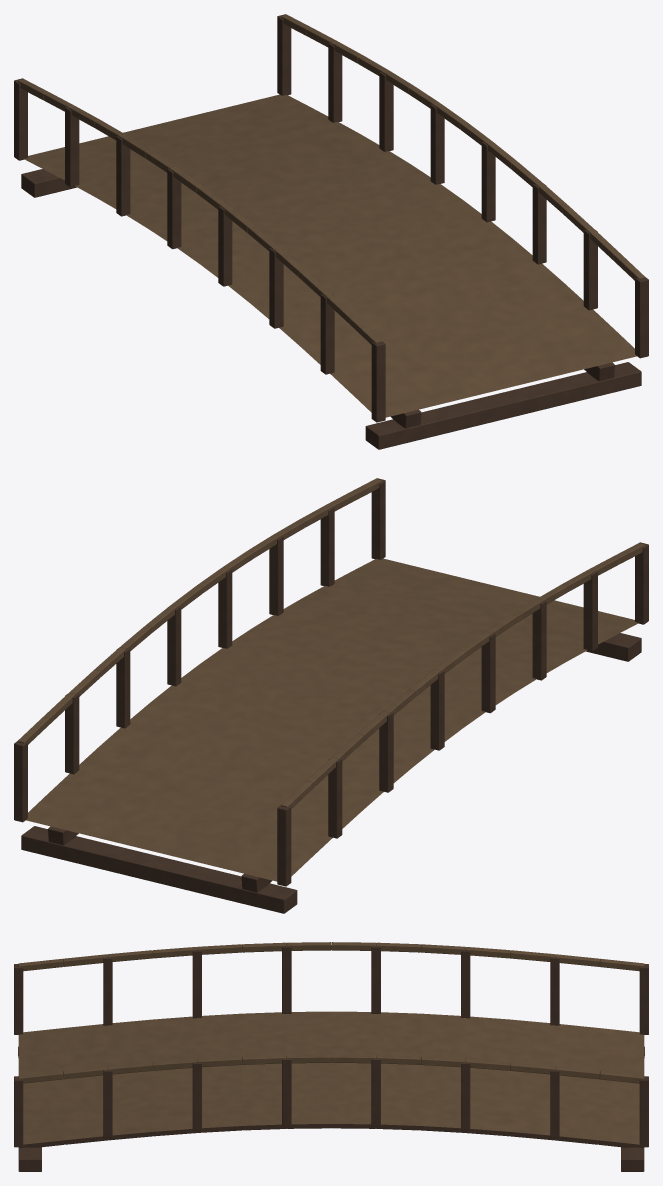
The model's file is Wooden_Bridge.fbx.
3 views of the same model, one above another, from view 1: azimuth 30°, elevation 25°; view 2: azimuth 150°, elevation 25°; view 3: azimuth 270°, elevation 25° (orthographic). The views are drawn at different scales.
Visible parts, largest first — view 1: Wooden_Bridge.001; view 2: Wooden_Bridge.001; view 3: Wooden_Bridge.001.
Part boxes in pixels (box(x1,y1,x2,y2)): Wooden_Bridge.001: box(14, 14, 648, 449); Wooden_Bridge.001: box(14, 478, 648, 913); Wooden_Bridge.001: box(14, 942, 648, 1171).
Bounding box in the file's own units: 3.52 × 1.64 × 8.12.
